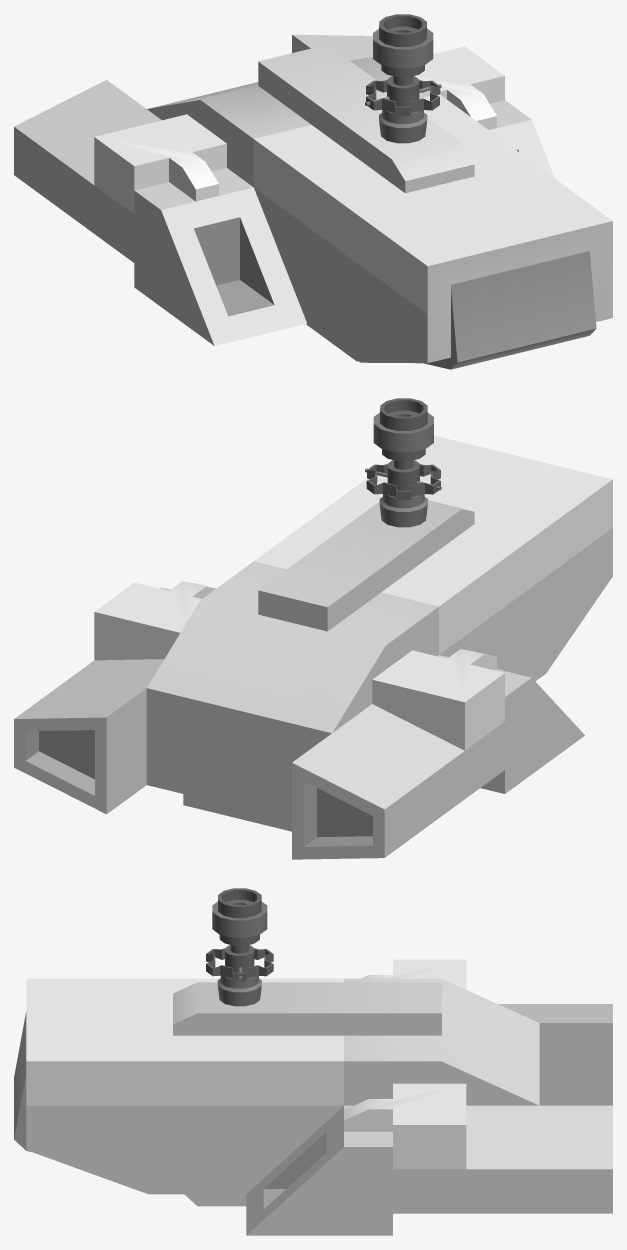
File: jade_mortar.glb
The picture shows the model from 3 angles, top to bottom: view 1: azimuth 30°, elevation 25°; view 2: azimuth 150°, elevation 25°; view 3: azimuth 270°, elevation 25°; orthographic projection. The views are drawn at different scales.
Visible parts, largest first — view 1: Body, Turret; view 2: Body, Turret; view 3: Body, Turret.
Part boxes in pixels (bbox=[...]): Body: bbox=[14, 34, 612, 369]; Turret: bbox=[365, 14, 441, 143]; Body: bbox=[14, 435, 612, 859]; Turret: bbox=[365, 398, 441, 527]; Body: bbox=[14, 959, 612, 1235]; Turret: bbox=[206, 888, 273, 1006].
Size of the model in its own units: 4.24 by 3.32 by 6.5.
2 materials, 1 textured.
